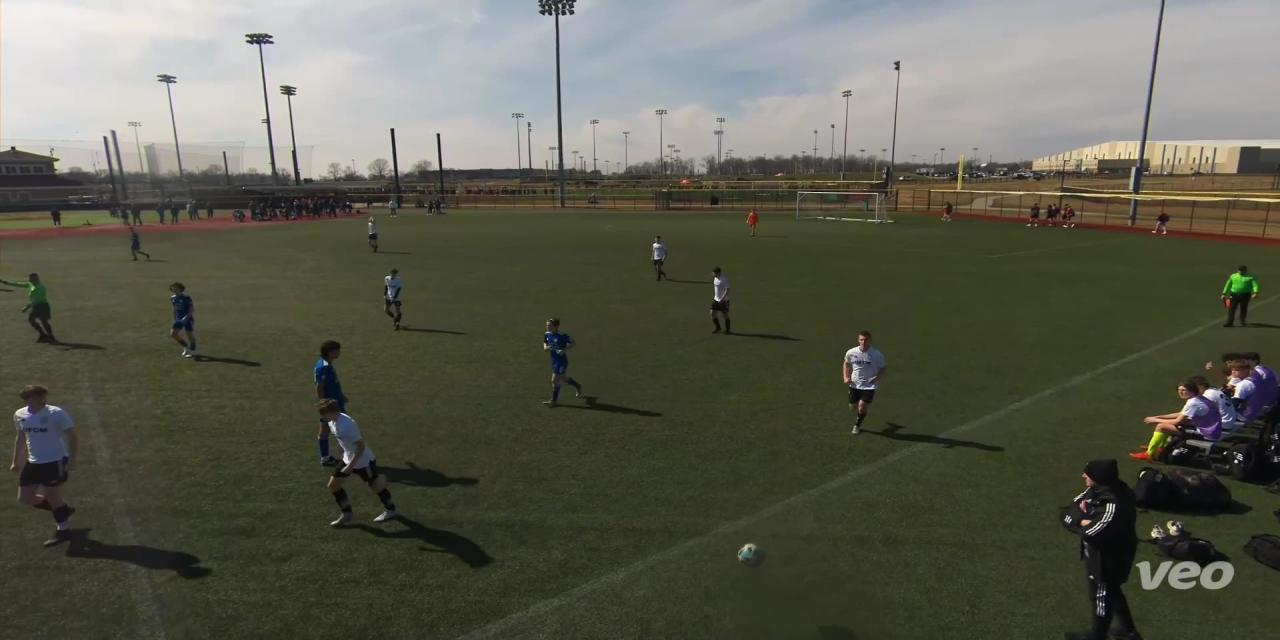goal: (788, 184, 913, 230)
sports ball: (731, 532, 771, 572)
